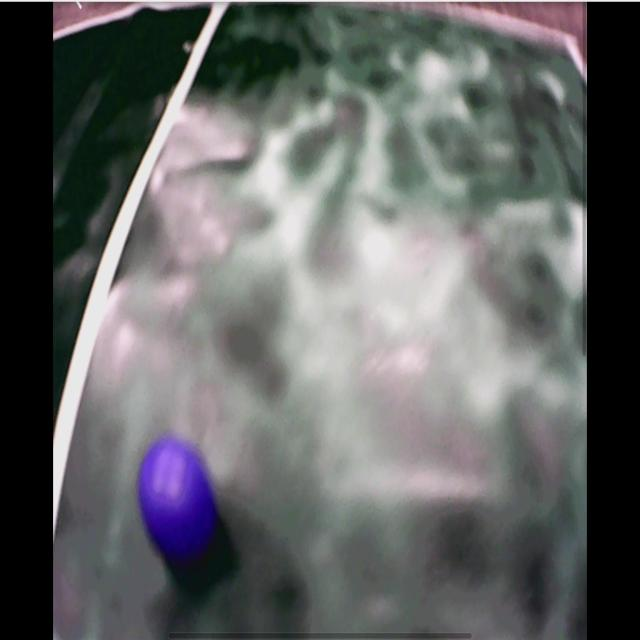ball: (137, 439, 213, 557)
